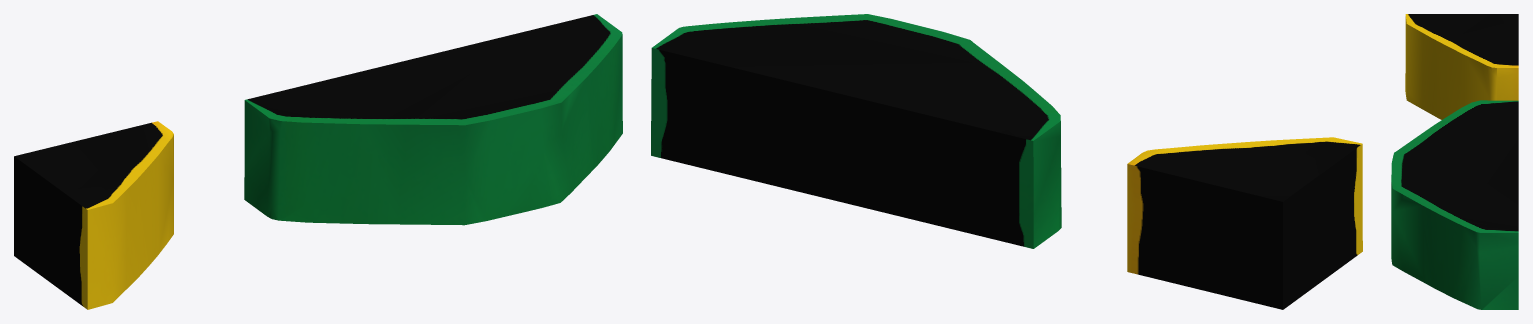
The model's file is 10-roof-front-right.fbx.
The picture shows the model from 3 angles, left to right: view 1: azimuth 30°, elevation 25°; view 2: azimuth 150°, elevation 25°; view 3: azimuth 270°, elevation 25°; orthographic projection. The views are drawn at different scales.
Parts seen in each view (by area): view 1: roof-front-right; view 2: roof-front-right; view 3: roof-front-right.
Boxes of the visible parts, x1=… form: roof-front-right: x1=14, y1=14, x2=622, y2=309; roof-front-right: x1=651, y1=14, x2=1362, y2=309; roof-front-right: x1=1391, y1=14, x2=1518, y2=309.
Size of the model in its own units: 3172 by 518 by 779.
Materials: 1 (1 with a texture image).
